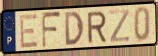0: (132, 5, 153, 44)
D: (63, 10, 85, 47)
E: (19, 13, 39, 50)
F: (41, 11, 63, 50)
R: (86, 10, 108, 45)
Z: (109, 8, 130, 44)
